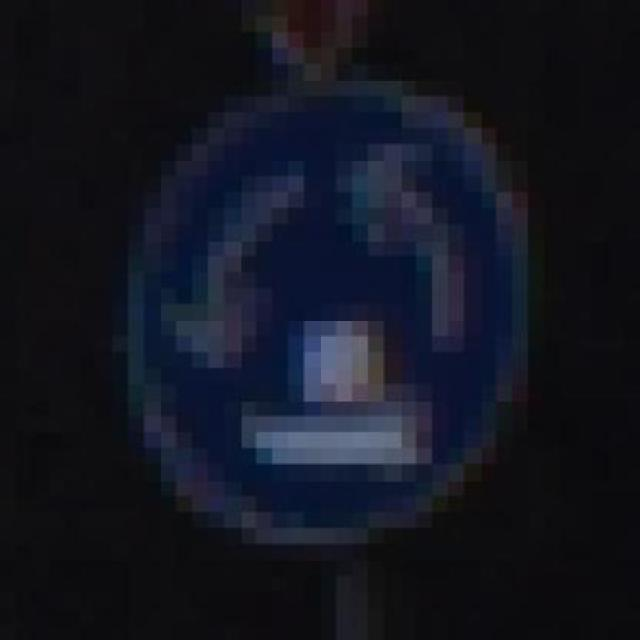Round-About: (95, 64, 560, 576)
